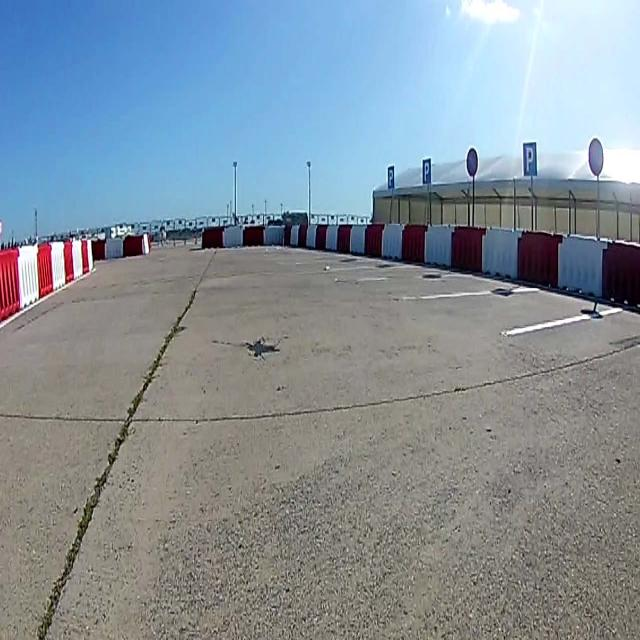park: (523, 142, 537, 177), (422, 158, 431, 185), (387, 164, 395, 189)
parkyasak: (588, 138, 604, 176), (466, 147, 478, 177)
